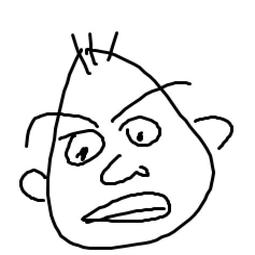ear: (191, 109, 235, 153), (14, 165, 51, 206)
eye: (63, 128, 107, 167), (120, 113, 164, 148)
eyebrow: (23, 109, 102, 148)
frowning_eyebrow: (113, 74, 190, 123)
nose: (98, 153, 154, 187)
open_mouth: (80, 190, 176, 226)
